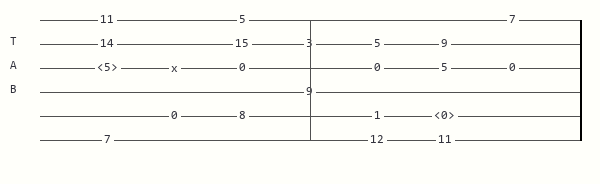0: (171, 110, 182, 122), (239, 62, 250, 74), (374, 62, 385, 74), (509, 62, 520, 74)
1: (374, 110, 385, 122)
11: (100, 14, 118, 26), (438, 134, 456, 146)
12: (370, 134, 388, 146)
14: (100, 38, 118, 50)
15: (235, 38, 253, 50)
3: (306, 38, 317, 50)
5: (239, 14, 250, 26), (374, 38, 385, 50), (441, 62, 452, 74)
7: (104, 134, 115, 146), (509, 14, 520, 26)
8: (239, 110, 250, 122)
9: (306, 86, 317, 98), (441, 38, 452, 50)
harmonic: (97, 62, 122, 74), (434, 110, 459, 122)
x: (171, 63, 182, 73)
